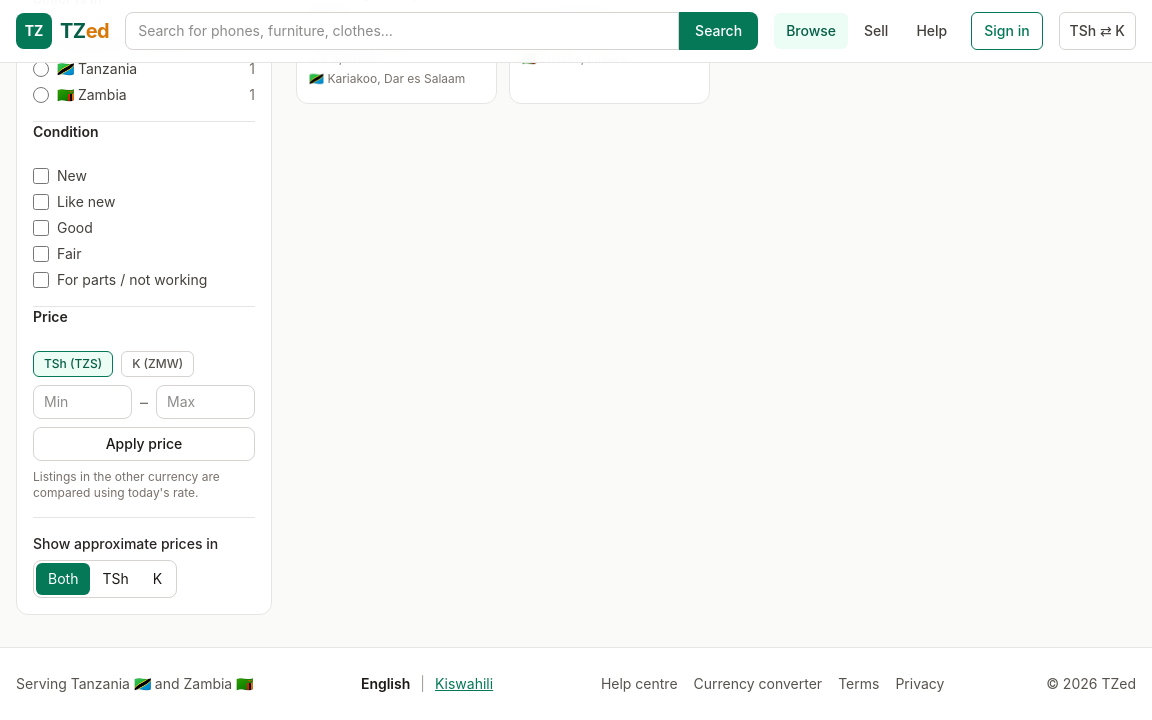
Test: Search page › filters by a price range in kwacha
(page scrolled)
Click the button "K (ZMW)" at (158, 364), box [121, 351, 194, 377]
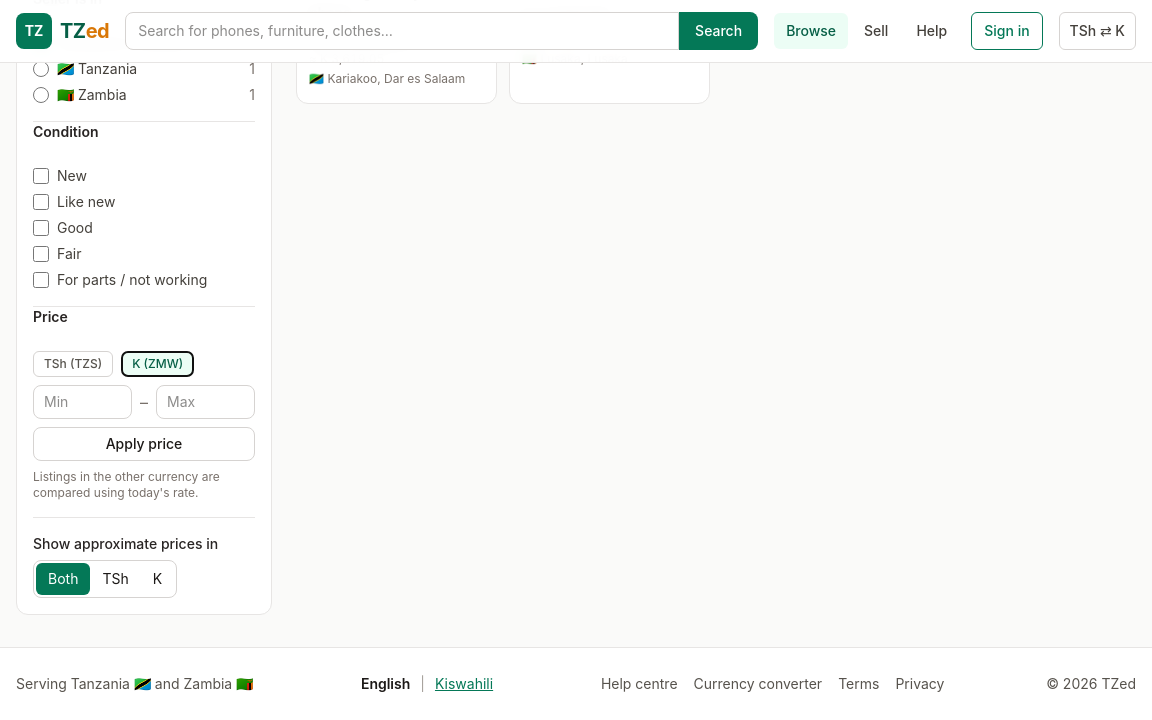
Type "3,000" into the field named "Minimum price in ZMW" at (82, 402), box [33, 385, 132, 419]
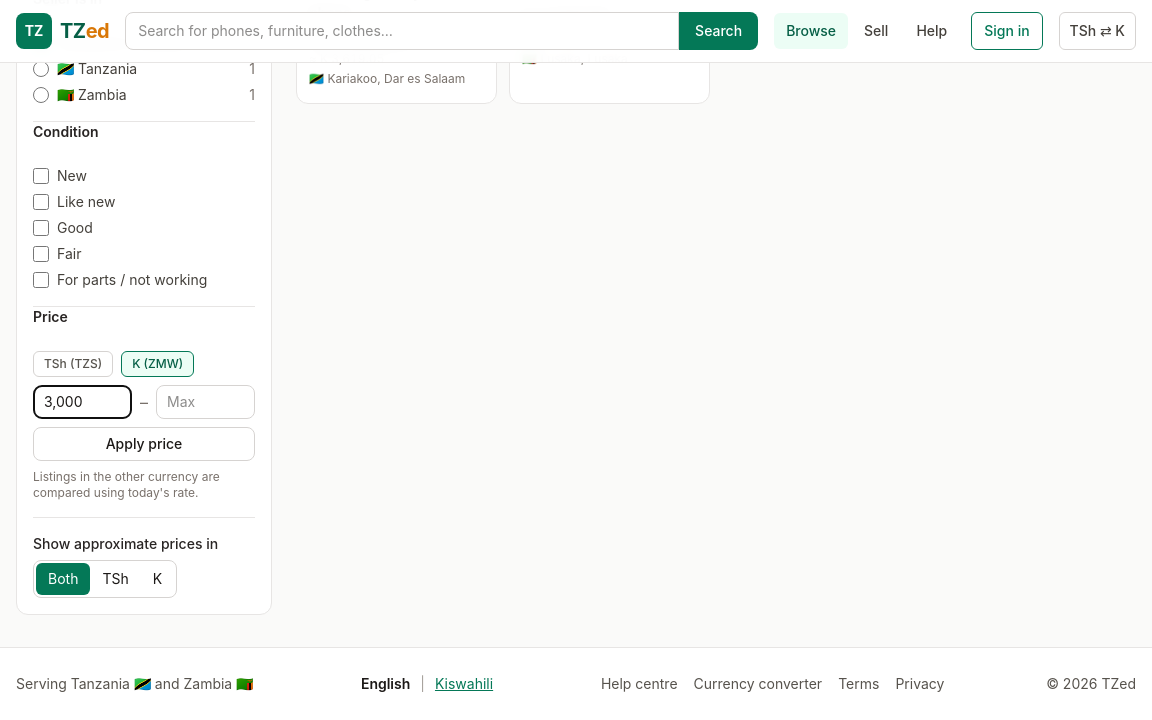
Type "7000" into the field named "Maximum price in ZMW" at (206, 402), box [156, 385, 255, 419]
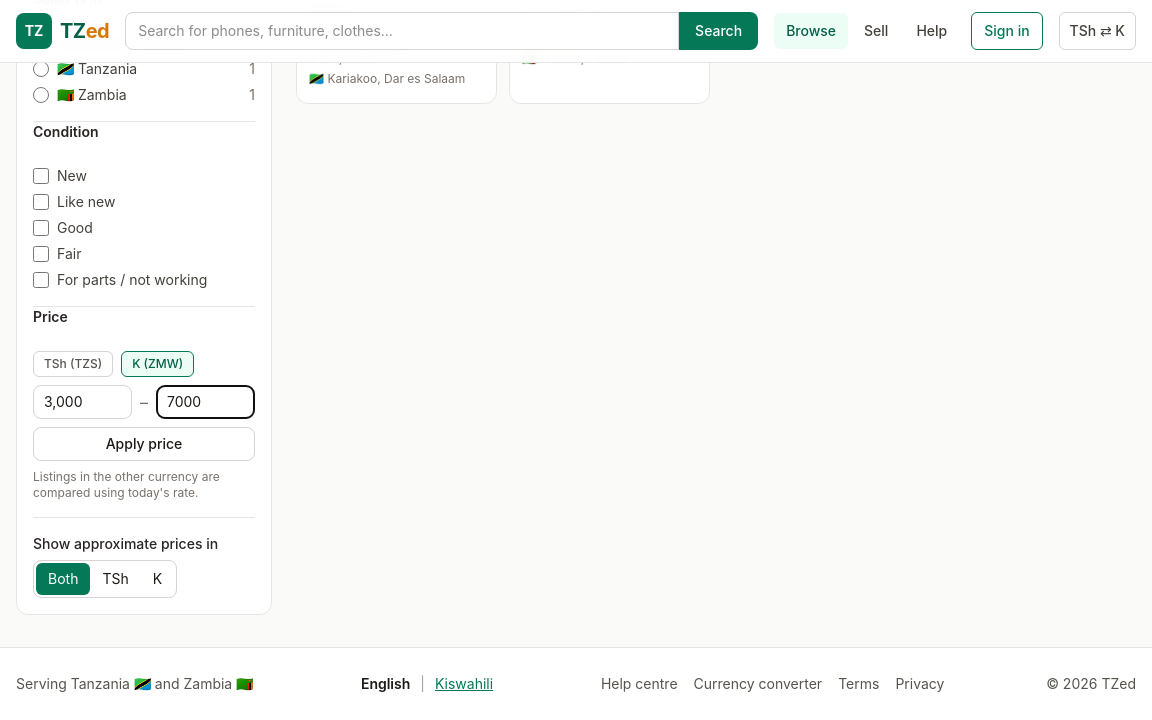
Click the button "Apply price" at (144, 444), box [33, 427, 255, 461]
(page scrolled)
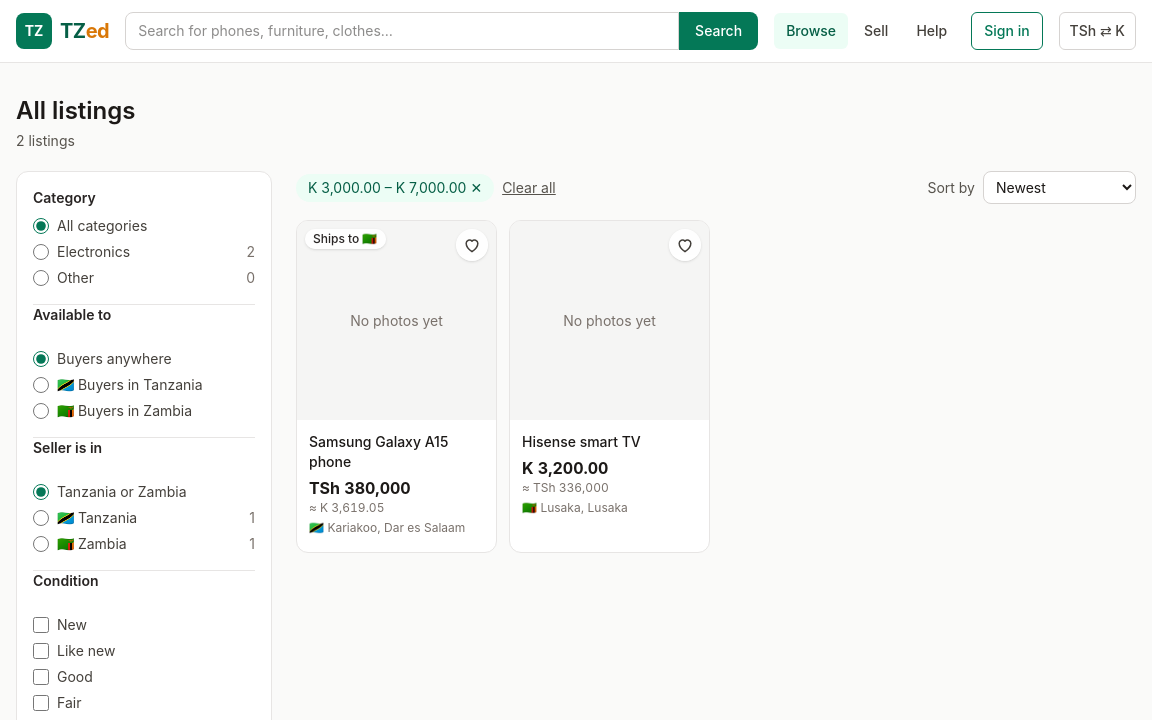
Result: the button named "Remove filter: K 3,000.00 – K 7,000.00" is shown at [296, 174, 494, 202]
